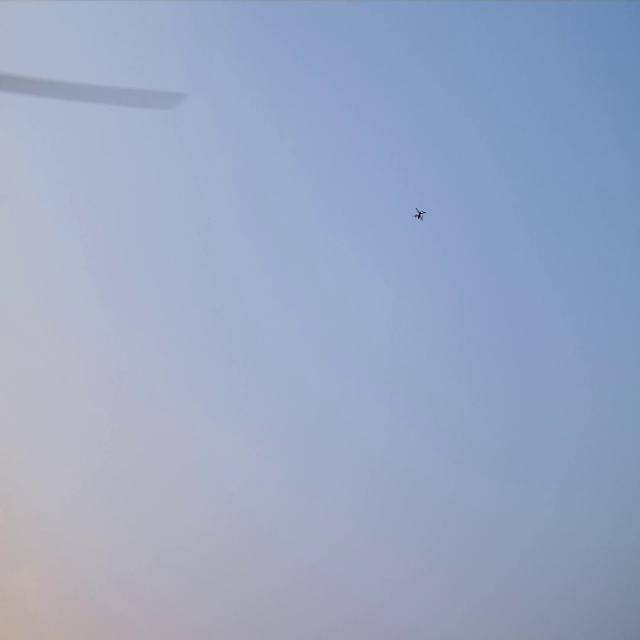UAV: (413, 207, 426, 220)
